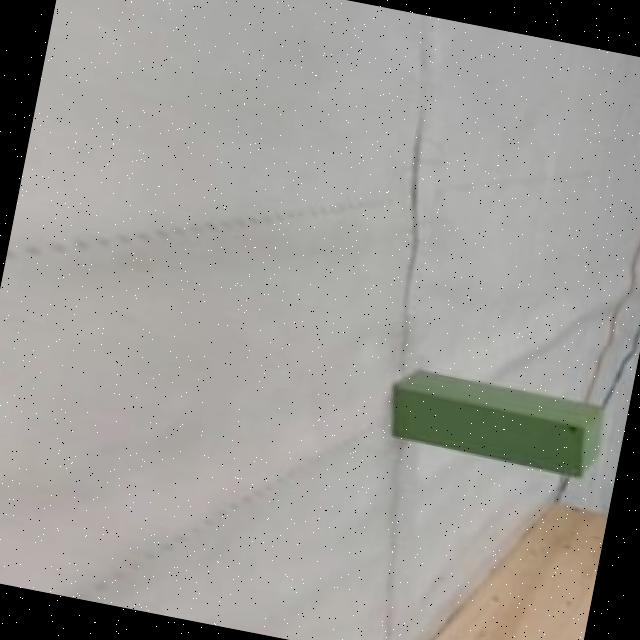greenbox: (380, 361, 616, 484)
